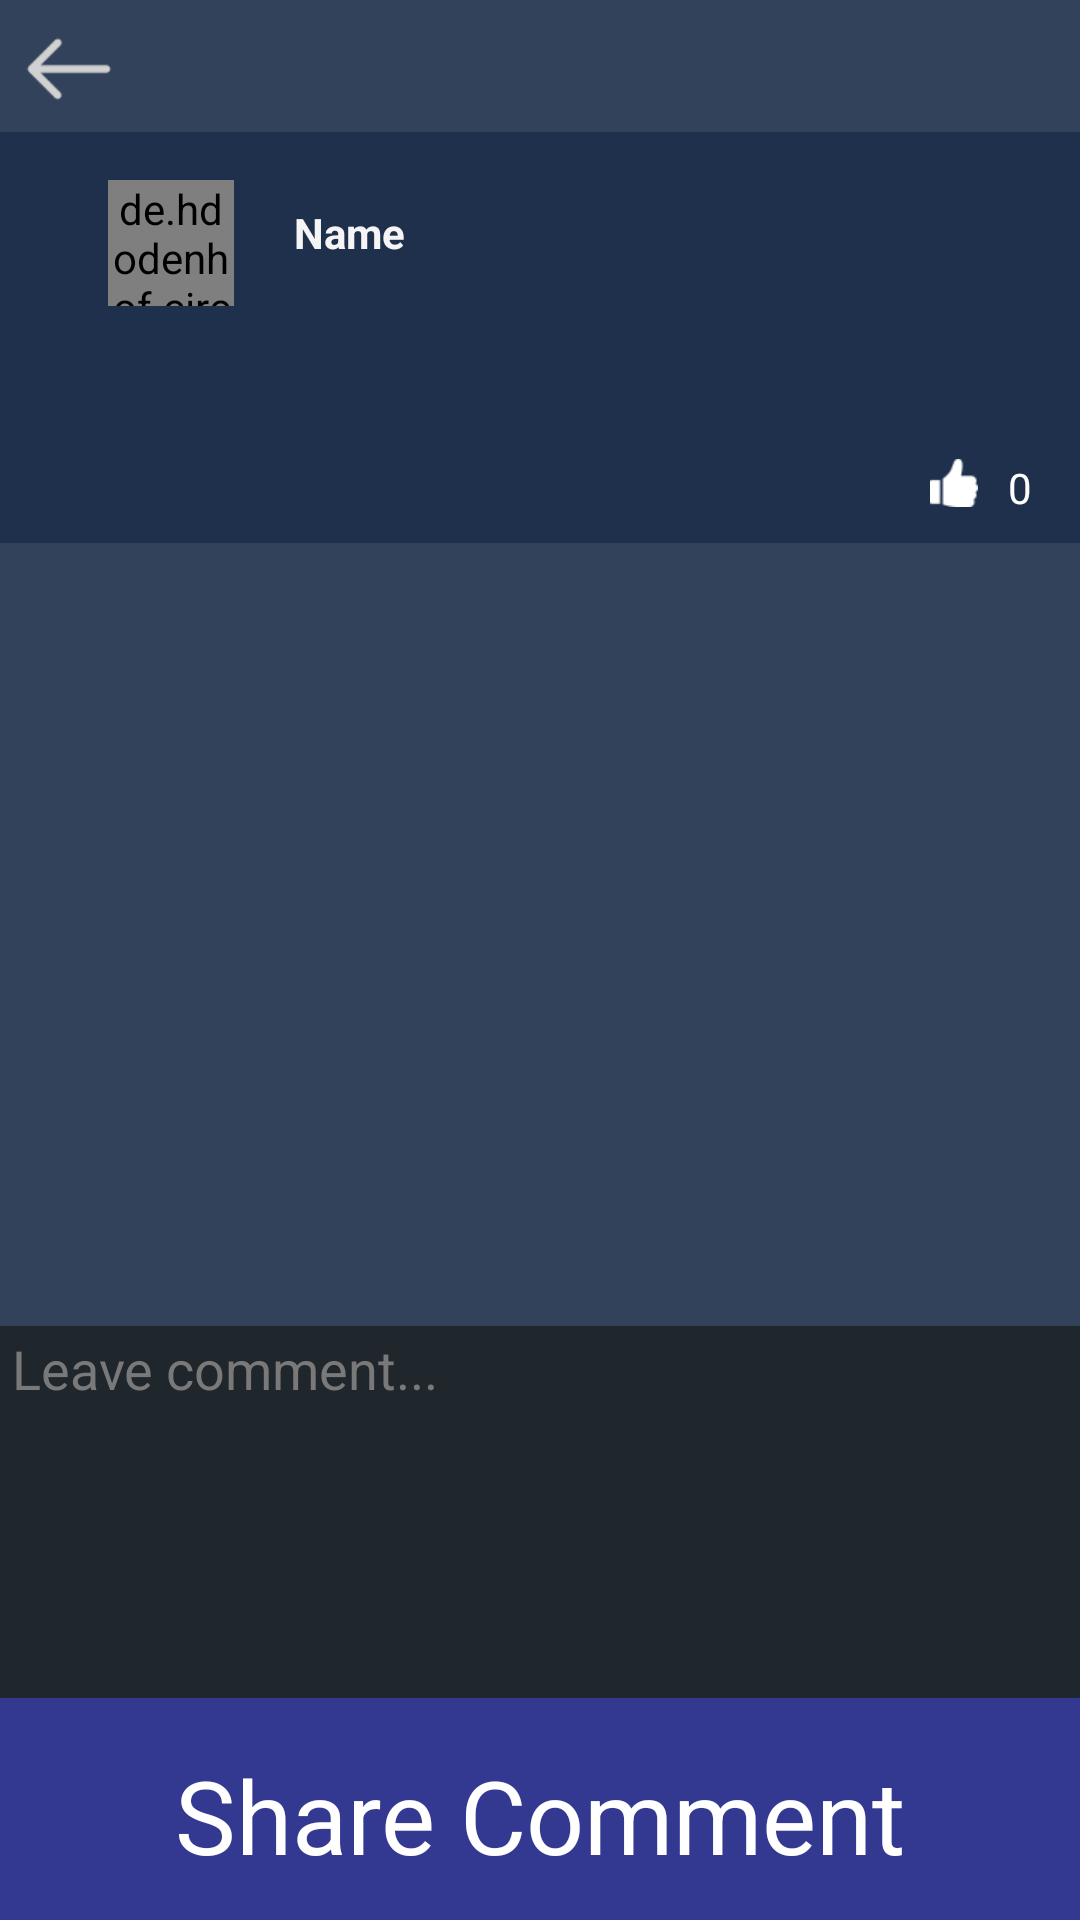

Point at icon controls on the screen. Image size 1080w x 1920h, points as (x,y).
back: (69,69)
like: (954,483)
